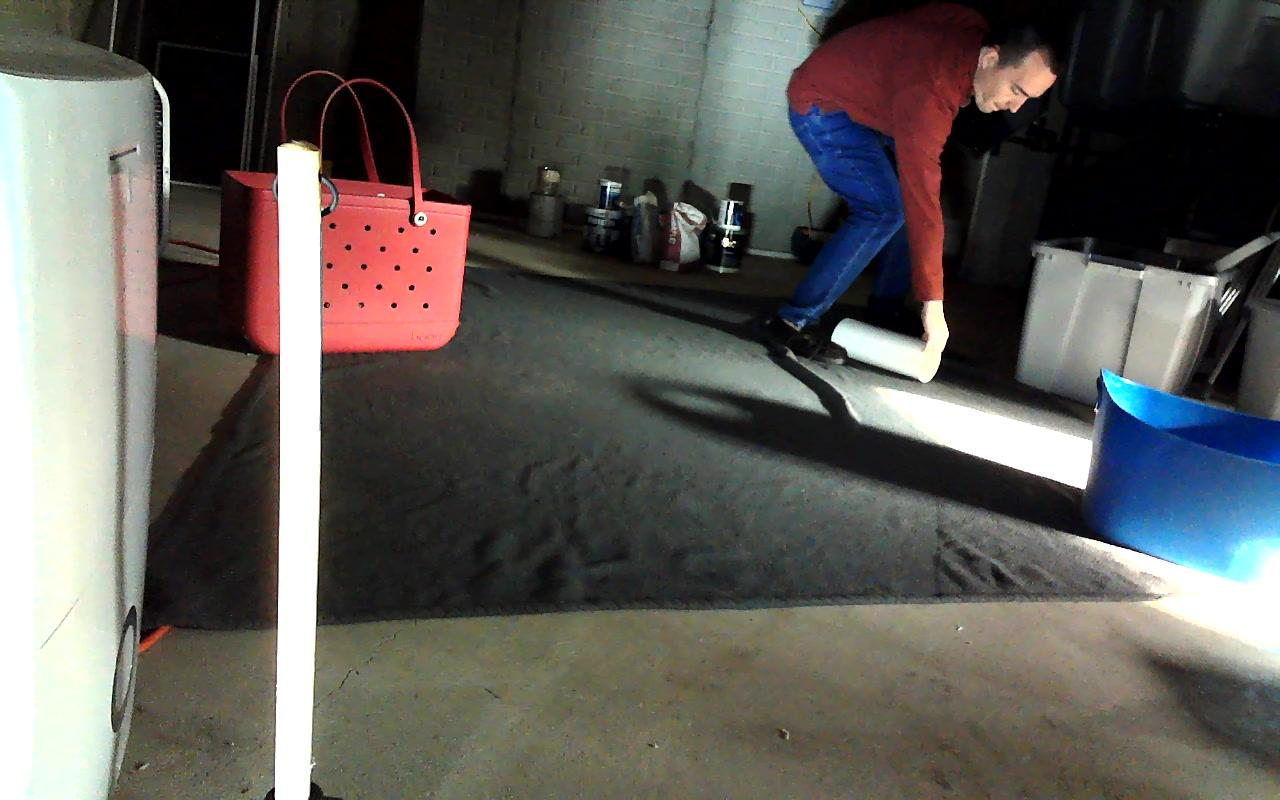coral: (831, 319, 944, 382)
